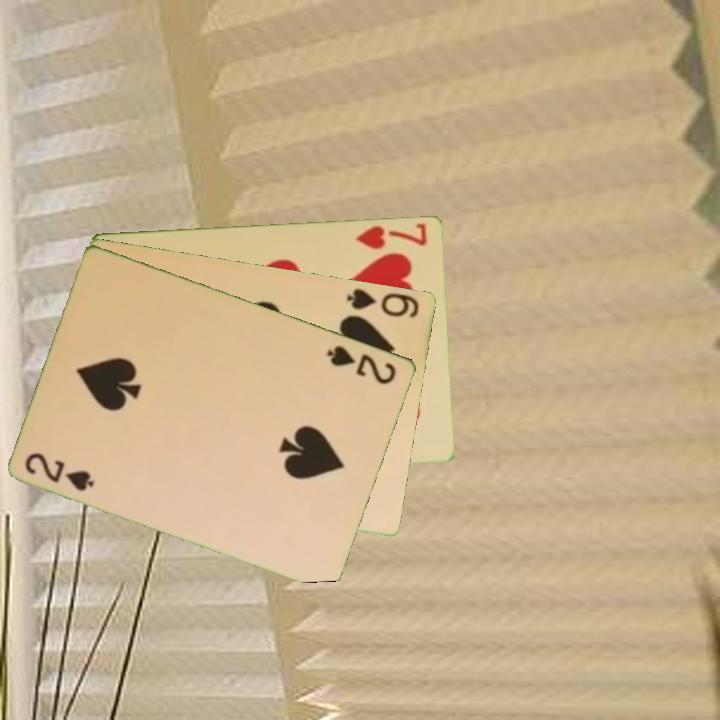2s: (324, 341, 400, 387), (22, 448, 98, 494)
6s: (344, 284, 423, 321)
7h: (353, 219, 430, 252)
